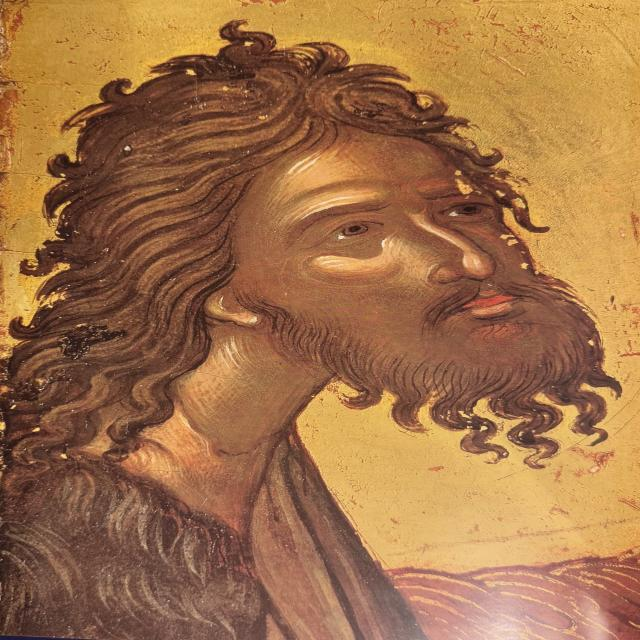saint: (9, 25, 640, 640)
